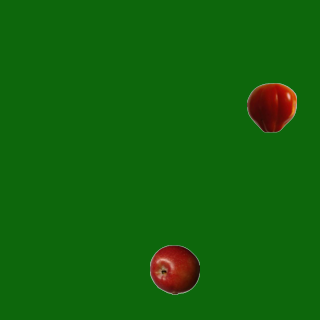Apple Braeburn: (149, 244, 199, 294)
Tomato 1: (246, 82, 296, 132)
